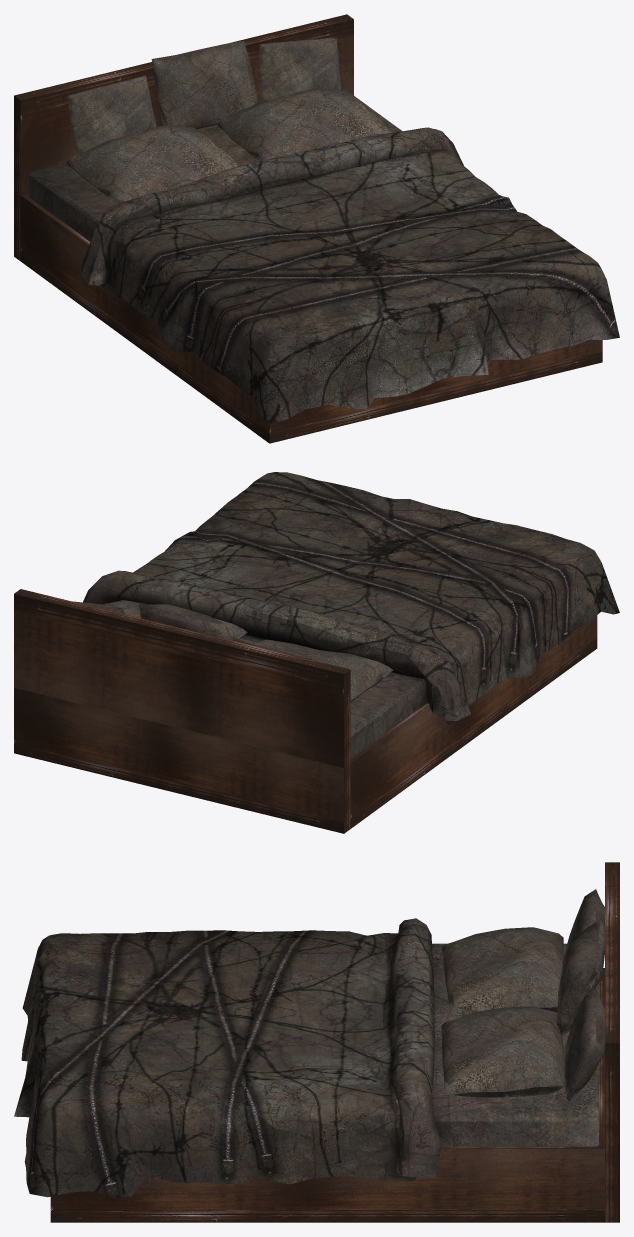
The picture shows the model from 3 angles, top to bottom: view 1: azimuth 30°, elevation 25°; view 2: azimuth 150°, elevation 25°; view 3: azimuth 270°, elevation 25°; orthographic projection. The views are drawn at different scales.
Parts seen in each view (by area): view 1: Geode; view 2: Geode; view 3: Geode.
Part boxes in pixels (box(x1,y1,x2,y2)): Geode: box(14, 14, 619, 443); Geode: box(14, 472, 619, 833); Geode: box(14, 862, 619, 1222).
Bounding box in the file's own units: 2.62 × 1.11 × 3.17.
Materials: 2 (2 with a texture image).
